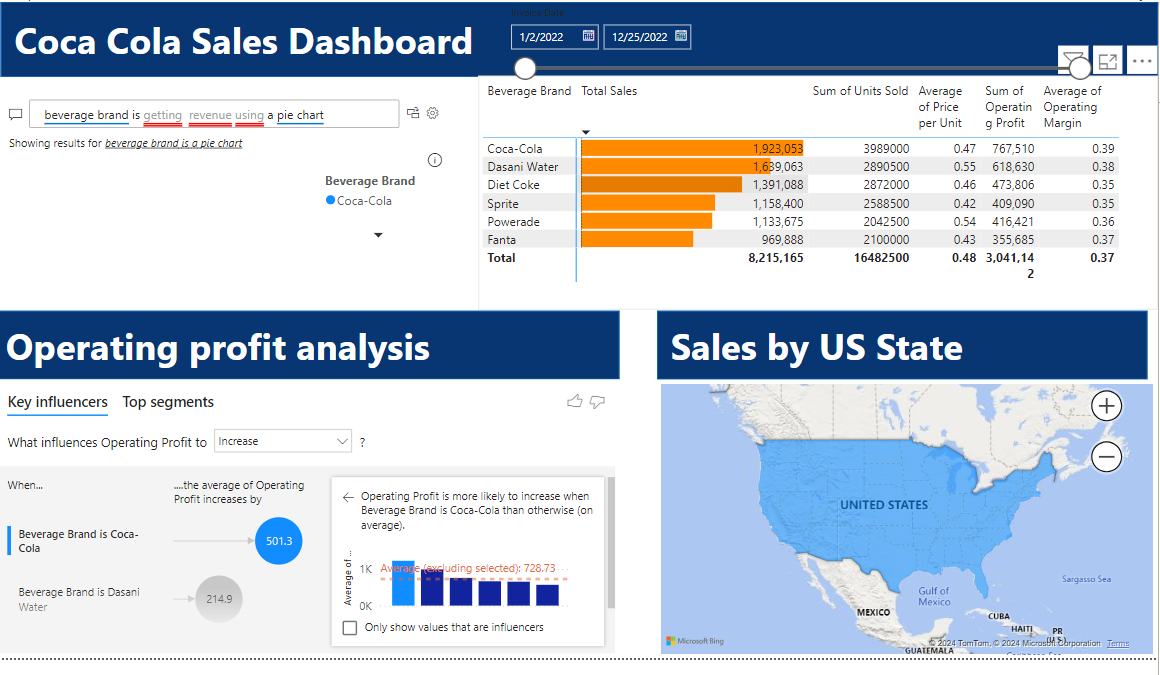

Layout of this report page (visuals, bound fields, positions):
{"tool":"powerbi","page":{"name":"Page 2","canvas":[1280,720],"ordinal":1},"visuals":[{"type":"shape","box":[0,338.9,688.9,75.5],"z":1000},{"type":"shape","box":[729.5,338.5,538.5,75.6],"z":3000},{"type":"qnaVisual","box":[9.2,82.8,489.7,200],"z":4000},{"type":"keyDriversVisual","fields":{"Target":["Data.Operating Profit"],"ExplainBy":["Data.Beverage Brand"]},"box":[0,414.4,688.9,306],"z":5000},{"type":"filledMap","fields":{"Category":["Data.State"]},"box":[729.5,414.1,548.7,306.4],"z":6000},{"type":"pivotTable","fields":{"Rows":["Data.Beverage Brand"],"Values":["Sum(Data.Total Sales)","Sum(Data.Units Sold)","Avg(Data.Price per Unit)","Sum(Data.Operating Profit)","Avg(Data.Operating Margin)"]},"box":[533.3,81.6,747.1,256.3],"z":7000},{"type":"slicer","fields":{"Values":["Data.Invoice Date"]},"box":[557.7,0,659,105.1],"z":8000}]}

Visuals, with their boxes on the page's 1280x720 design canvas (x1, y1, x2, y2). These are canvas units, not pixel positions in the 1160x675 screenshot, which may show the page scaled, cropped or inside an application window:
shape: bbox=(0, 339, 689, 414)
shape: bbox=(730, 338, 1268, 414)
qnaVisual: bbox=(9, 83, 499, 283)
keyDriversVisual - Data.Operating Profit x Data.Beverage Brand: bbox=(0, 414, 689, 720)
filledMap - Data.State: bbox=(730, 414, 1278, 720)
pivotTable - Data.Beverage Brand x Sum(Data.Total Sales): bbox=(533, 82, 1280, 338)
slicer - Data.Invoice Date: bbox=(558, 0, 1217, 105)
